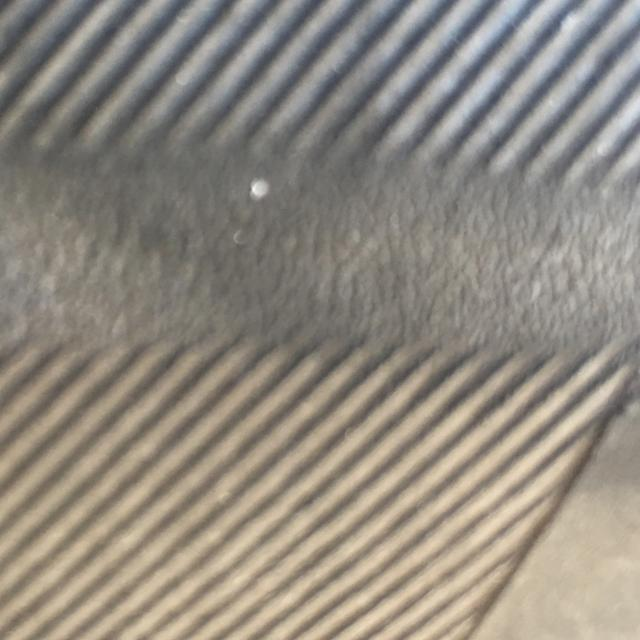Cracks: (0, 158, 640, 342)
